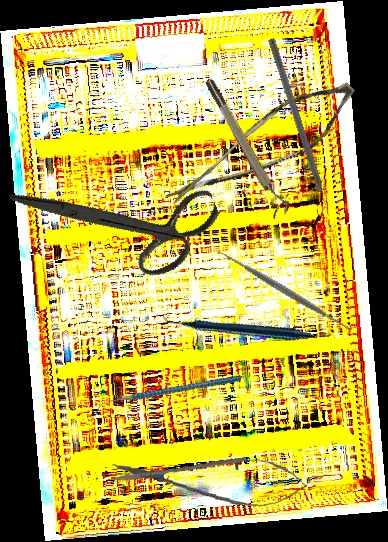Chopper: (258, 36, 333, 223), (95, 354, 242, 435)
Fixation Ring: (201, 73, 294, 220)
Handpiece: (162, 252, 312, 400)
Iris Scissors: (7, 122, 233, 317)
Micro Scissor: (164, 52, 364, 245), (109, 447, 309, 511)
Spatula Surgical: (214, 242, 359, 340)
